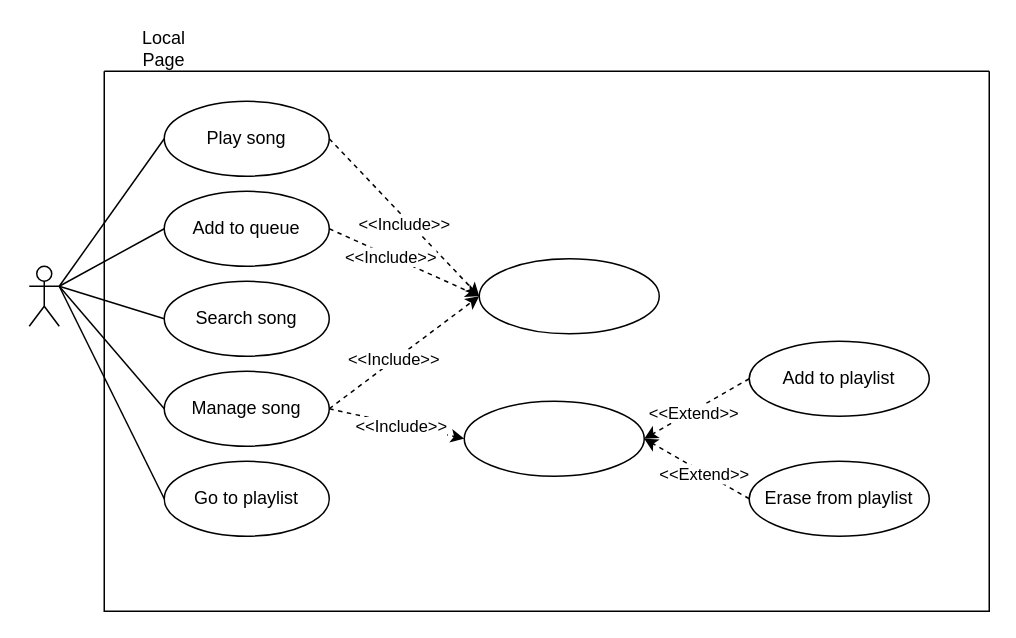
Image size: 1016x638. Some labels were removed from this diagram. The shapes that lost their labels are listed below. From the top down, each one's box as (x1, y1, x2, y2) in pixels, then its label:
(28, 265, 59, 326): User
(478, 257, 659, 334): Validate file existence
(463, 400, 644, 476): Show local playlists
